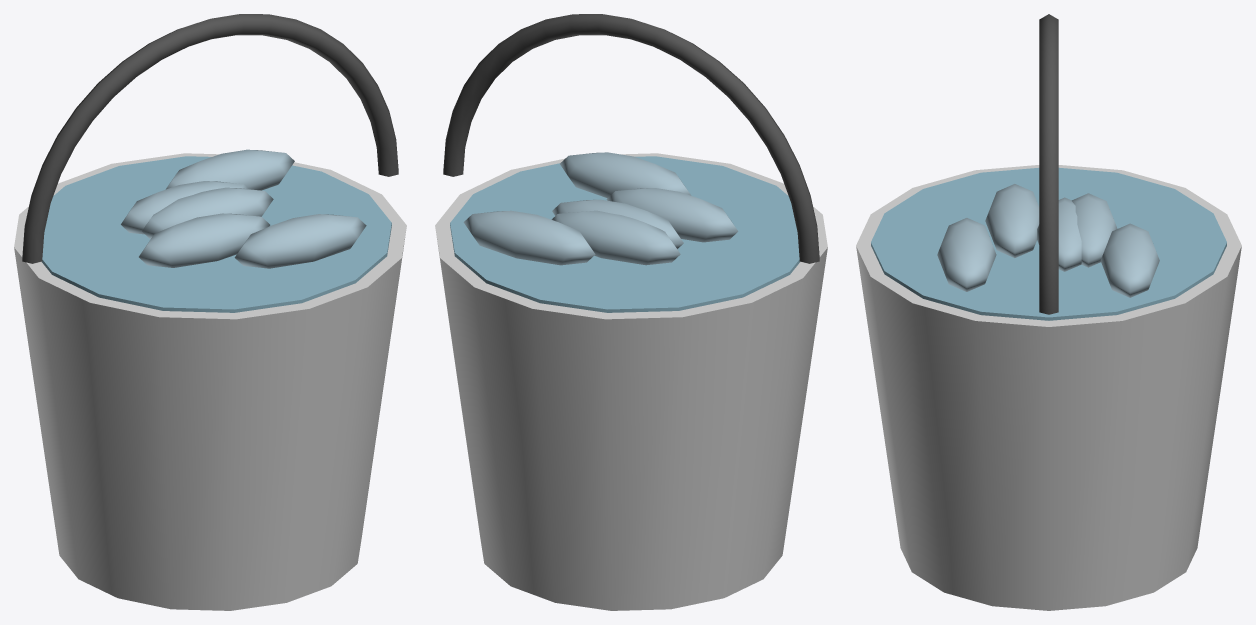
Rendered from fish_bucket.glb.
3 renders of one model, left to right at view 1: azimuth 30°, elevation 25°; view 2: azimuth 150°, elevation 25°; view 3: azimuth 270°, elevation 25°, orthographic. The views are drawn at different scales.
Parts seen in each view (by area): view 1: Fish bucket; view 2: Fish bucket; view 3: Fish bucket.
Part boxes in pixels (<box>): Fish bucket: <box>14,14,406,610</box>; Fish bucket: <box>435,14,827,610</box>; Fish bucket: <box>856,14,1241,610</box>.
Size of the model in its own units: 0.57 by 0.765 by 0.52.
